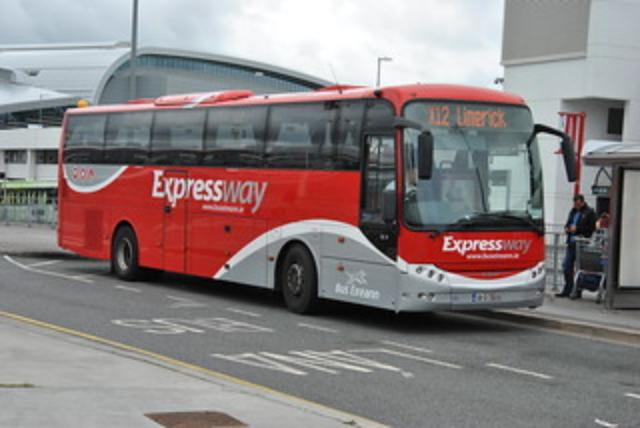bus: (56, 82, 546, 316)
